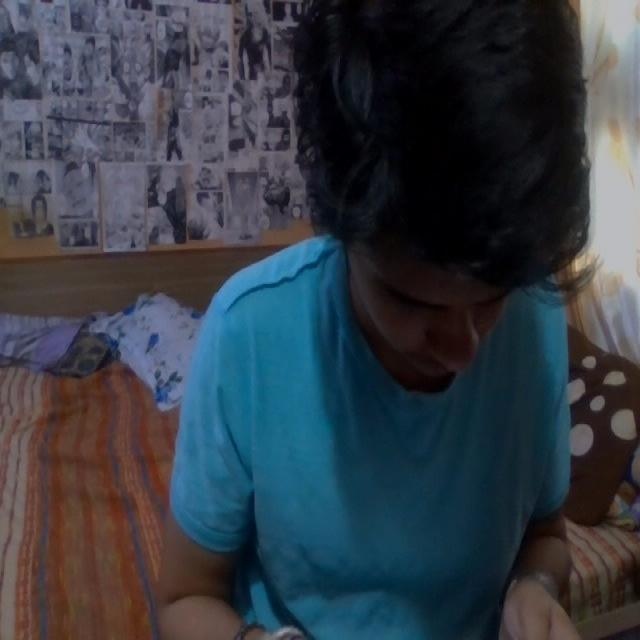focused: (135, 0, 603, 640)
